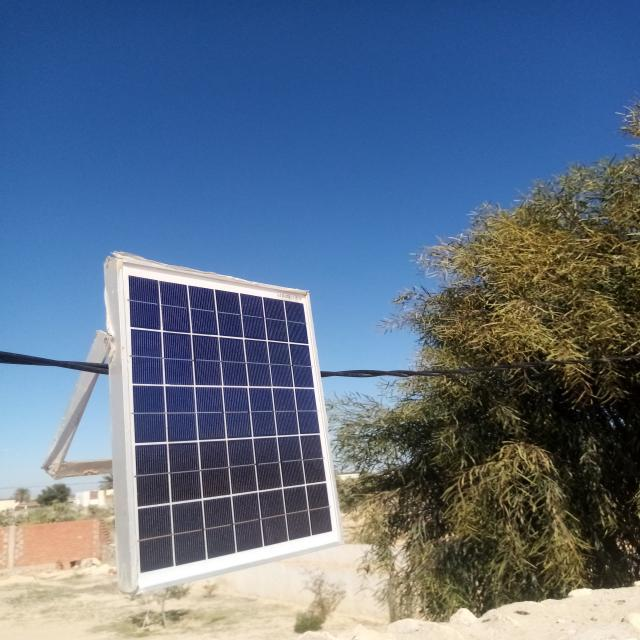no faulty: (121, 260, 343, 589)
